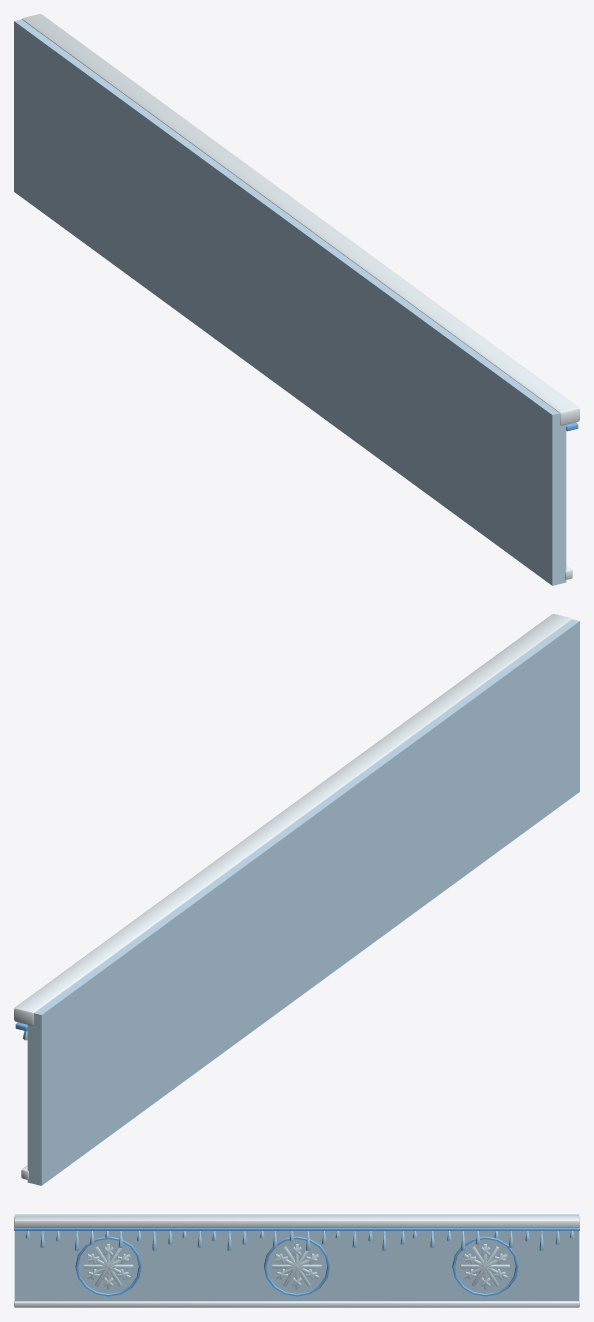
File: WallIce.fbx
3 views of the same model, one above another, from view 1: azimuth 30°, elevation 25°; view 2: azimuth 150°, elevation 25°; view 3: azimuth 270°, elevation 25° (orthographic). The views are drawn at different scales.
Visible parts, largest first — view 1: WallIce; view 2: WallIce; view 3: WallIce.
Boxes of the visible parts, x1,y1,x2,y2 form: WallIce: [14, 14, 579, 585]; WallIce: [14, 614, 579, 1185]; WallIce: [14, 1214, 579, 1307].
Size of the model in its own units: 240 by 1410 by 8020.
